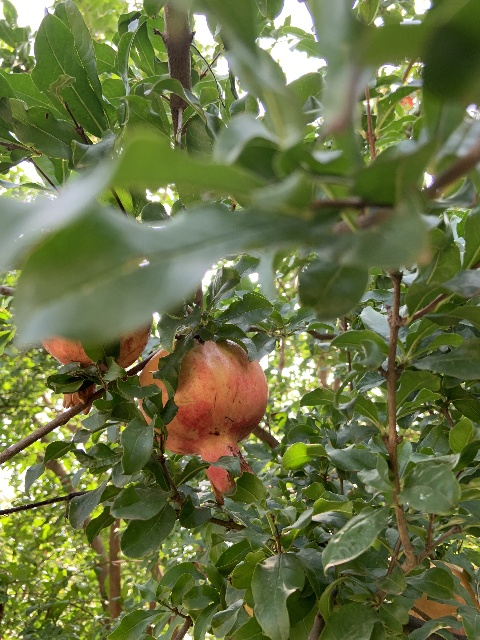ripe: (139, 339, 268, 506), (39, 313, 153, 416)
